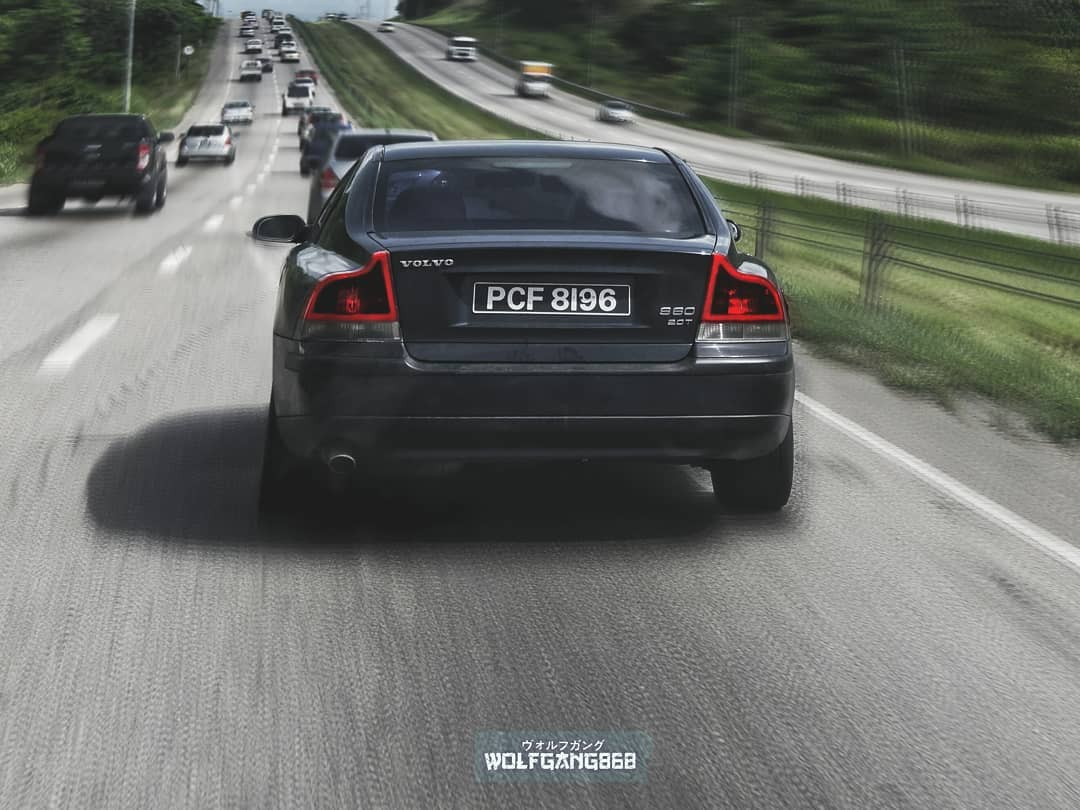License-Plate: (475, 283, 628, 311)
